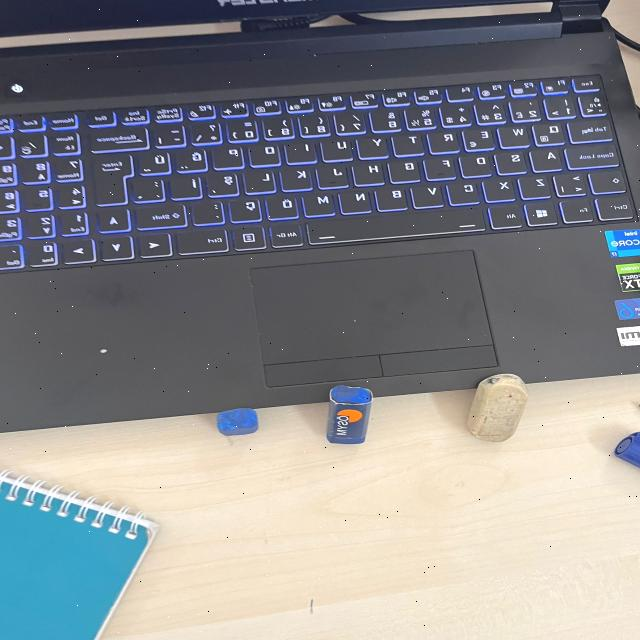eraser: (459, 364, 549, 452), (320, 378, 377, 453), (200, 404, 272, 446)
